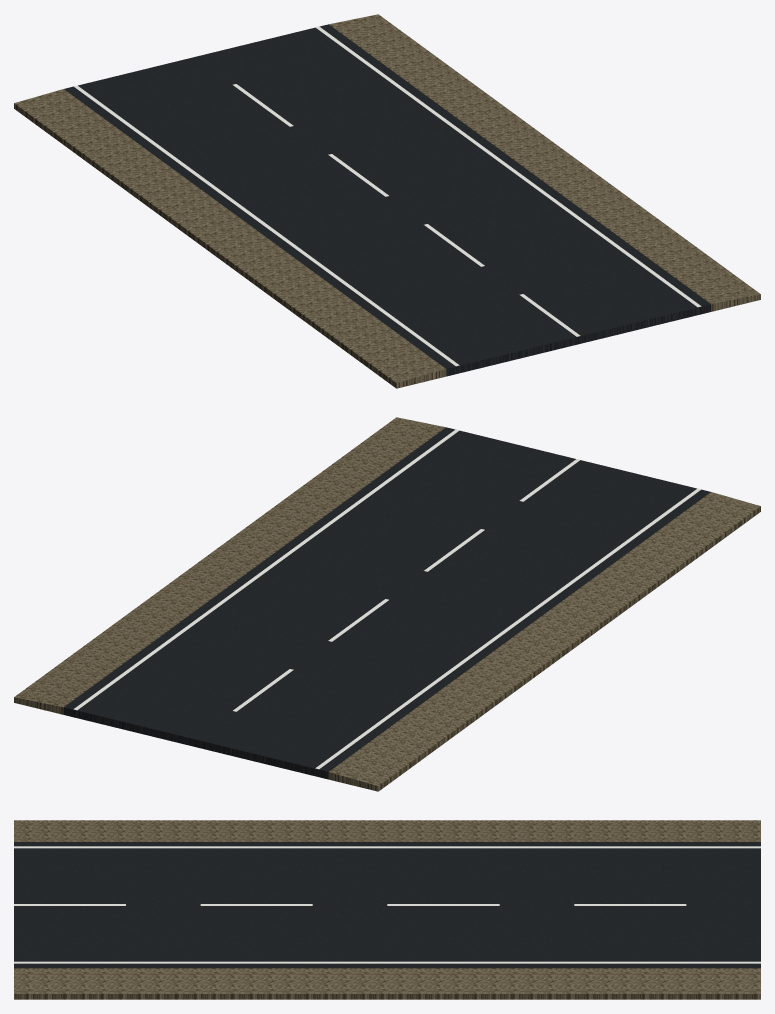
Rendered from RK_Road_Rural_20m.fbx.
3 renders of one model, top to bottom at view 1: azimuth 30°, elevation 25°; view 2: azimuth 150°, elevation 25°; view 3: azimuth 270°, elevation 25°, orthographic. The views are drawn at different scales.
Visible parts, largest first — view 1: COL_Asphalt.001, COL_Gravel, Markings_White.001; view 2: COL_Asphalt.001, COL_Gravel, Markings_White.001; view 3: COL_Asphalt.001, COL_Gravel, Markings_White.001.
Boxes of the visible parts, left/top/right/bottom form: COL_Asphalt.001: left=64, top=24, right=711, bottom=376; COL_Gravel: left=14, top=14, right=760, bottom=388; Markings_White.001: left=73, top=26, right=701, bottom=366; COL_Asphalt.001: left=63, top=427, right=710, bottom=779; COL_Gravel: left=14, top=417, right=760, bottom=791; Markings_White.001: left=73, top=429, right=701, bottom=769; COL_Asphalt.001: left=14, top=842, right=760, bottom=968; COL_Gravel: left=14, top=820, right=760, bottom=999; Markings_White.001: left=14, top=846, right=760, bottom=963.
Size of the model in its own units: 1100 by 22.9 by 2000.
3 materials, 2 textured.
